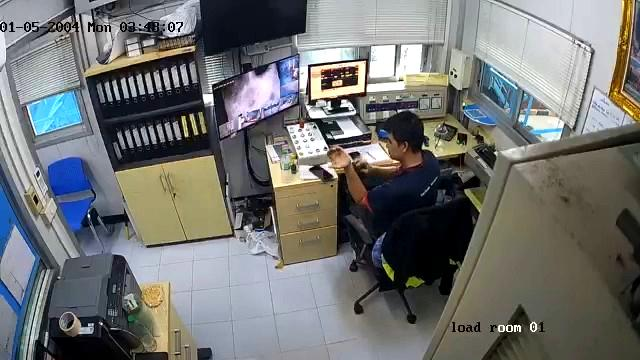Head: (383, 112, 425, 158)
People: (328, 112, 441, 206)
Phone: (308, 165, 333, 182), (347, 151, 361, 160)
